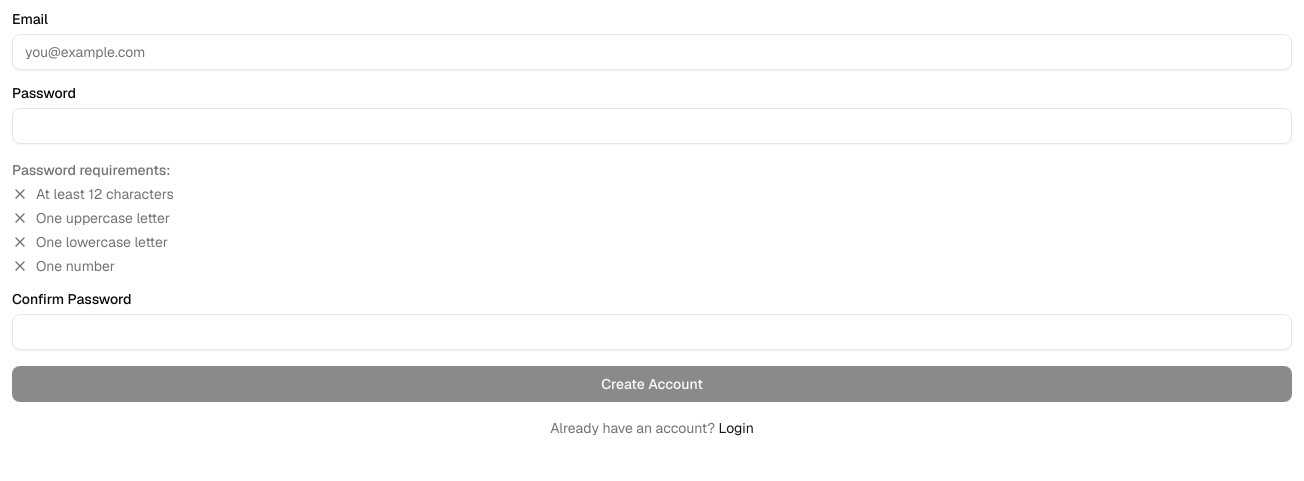
RegisterForm › should show email validation error for invalid email
Type "invalid-email" into the field labelled "Email". click: (652, 52)
box: x1=12 y1=34 x2=1292 y2=70
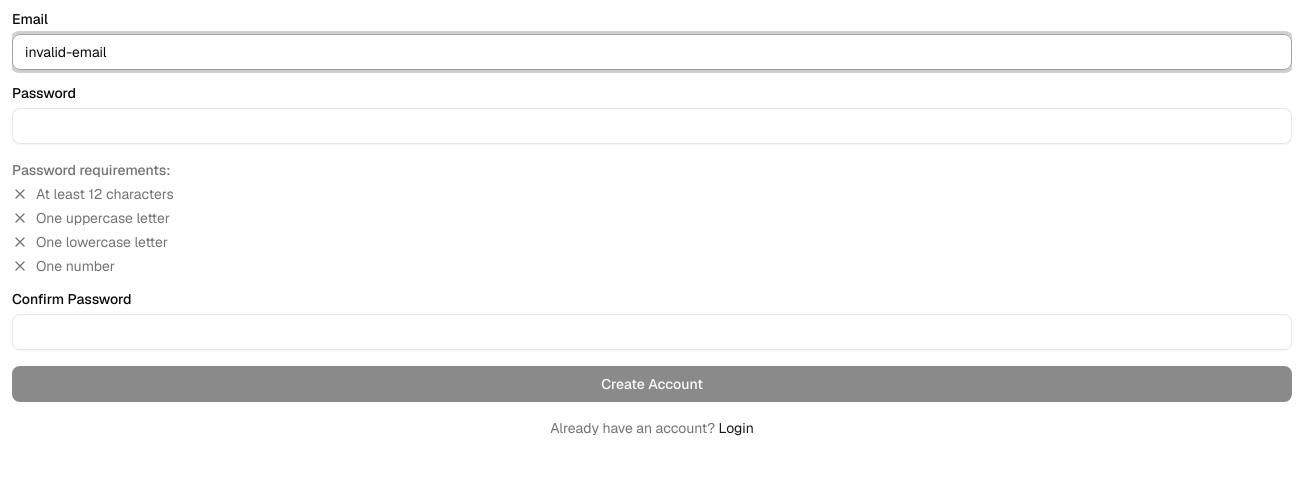
Press Tab
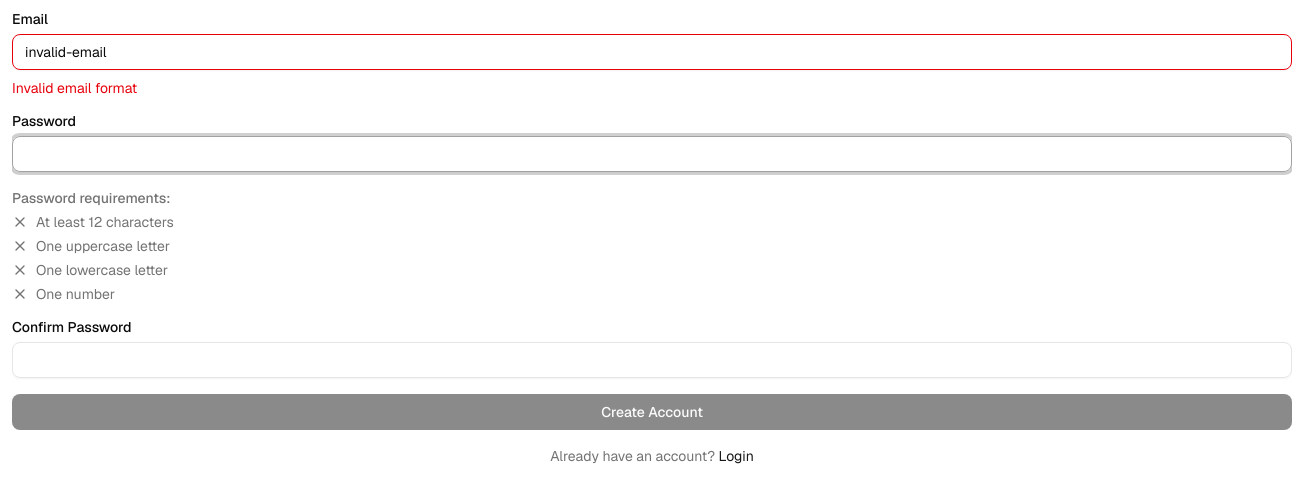
Now the text "Invalid email format" is shown, box x1=12 y1=79 x2=137 y2=97
